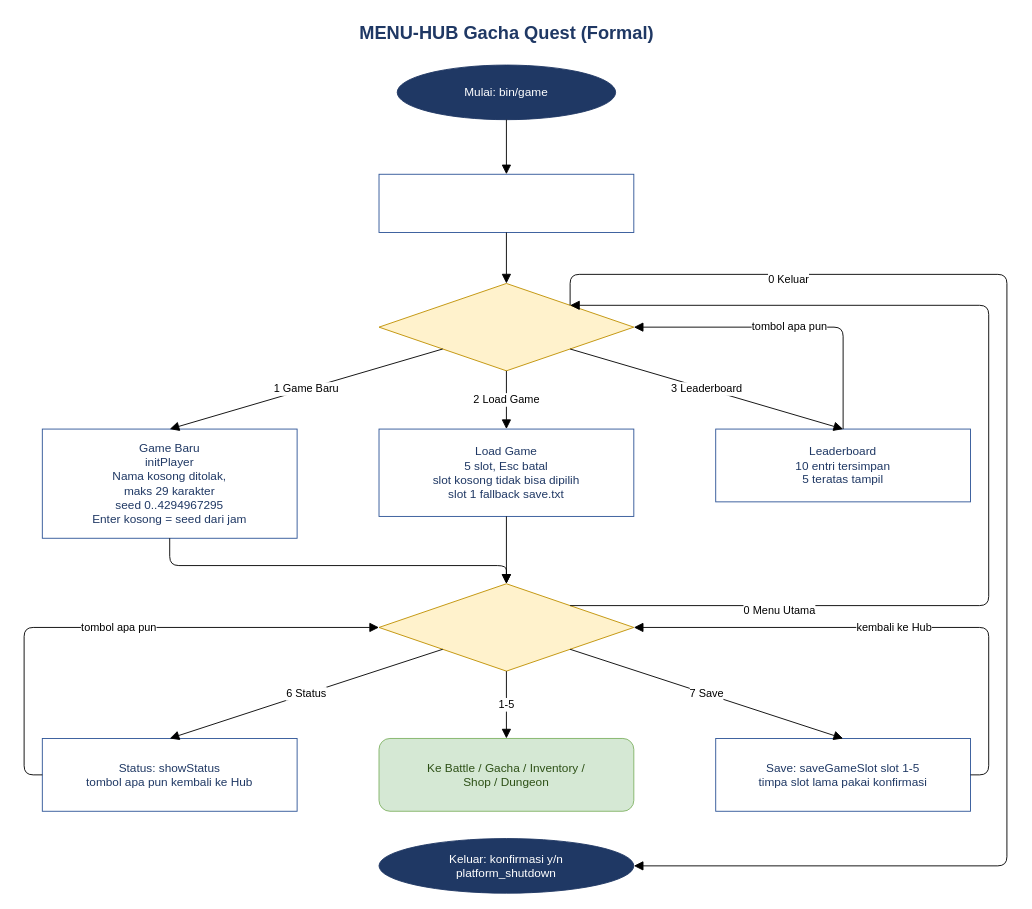
Some shapes in this 1032 by 909 pixel diagram are drawn without their labels. Here are the shapes that lost their labels. From the top down, the box of each, then its label:
(378, 173, 634, 233): platform_init dan ui_init cek terminal minimal 50x20
(378, 283, 634, 371): Menu Utama
(378, 583, 634, 671): Hub
